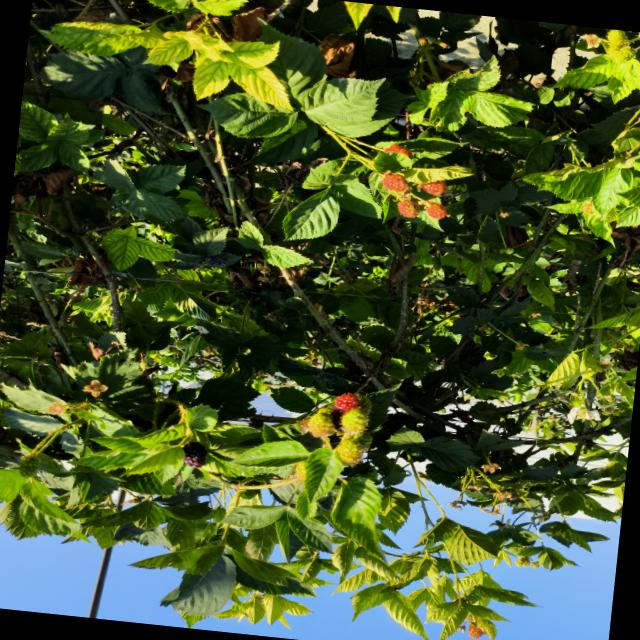marron: (183, 442, 206, 468)
naranja: (333, 392, 360, 412), (381, 173, 408, 192), (418, 180, 447, 196), (384, 144, 412, 159), (397, 199, 419, 218), (425, 202, 447, 219), (467, 624, 483, 639)
verde: (336, 432, 371, 466), (301, 406, 335, 438), (340, 408, 368, 434), (606, 47, 634, 64), (606, 29, 626, 47)
